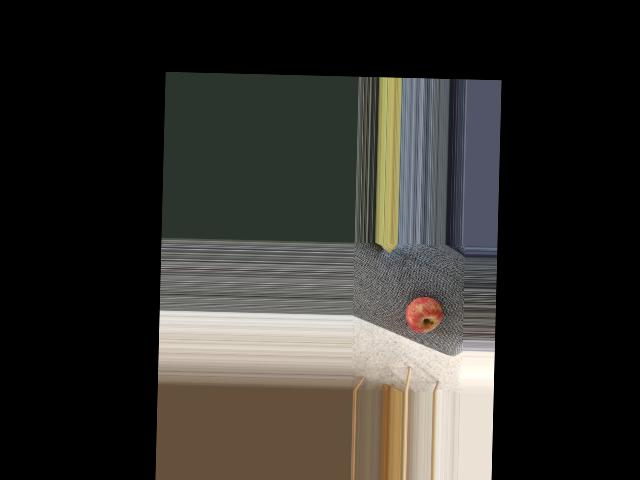apple: (404, 293, 445, 335)
